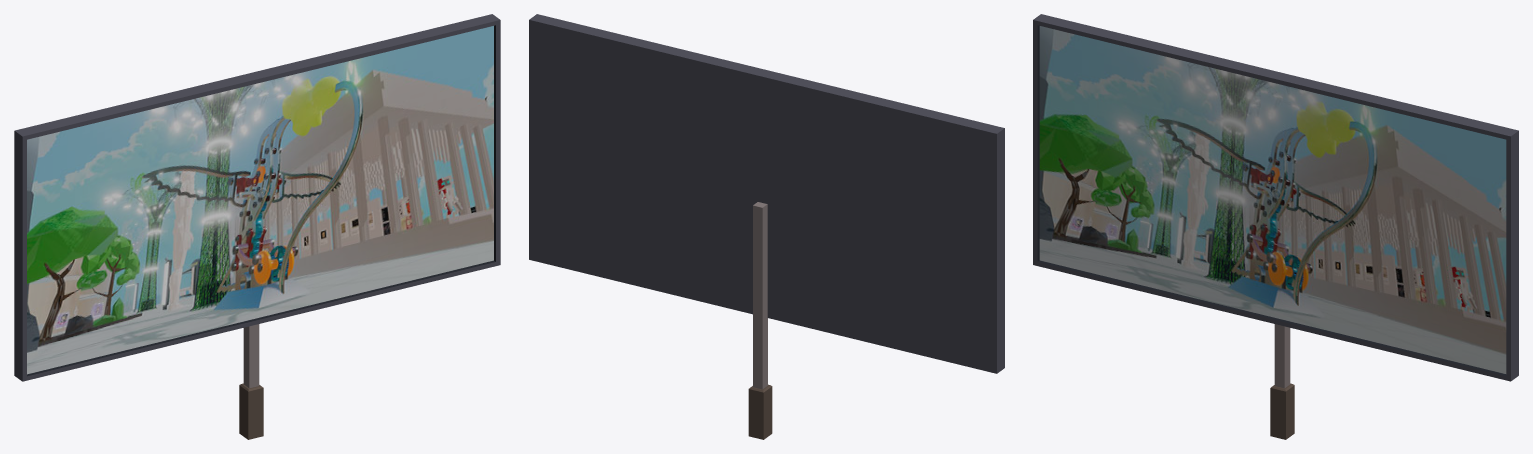
Rendered from museum_district.glb.
The picture shows the model from 3 angles, left to right: view 1: azimuth 30°, elevation 25°; view 2: azimuth 150°, elevation 25°; view 3: azimuth 330°, elevation 25°; orthographic projection. The views are drawn at different scales.
Visible parts, largest first — view 1: museum-district; view 2: museum-district; view 3: museum-district.
Part boxes in pixels (box(x1,y1,x2,y2)): museum-district: box(14, 14, 500, 439); museum-district: box(529, 14, 1004, 439); museum-district: box(1033, 14, 1518, 439).
Size of what is drawn, in the model's own units: 6.83 by 4.97 by 0.3669.
2 materials, 2 textured.
